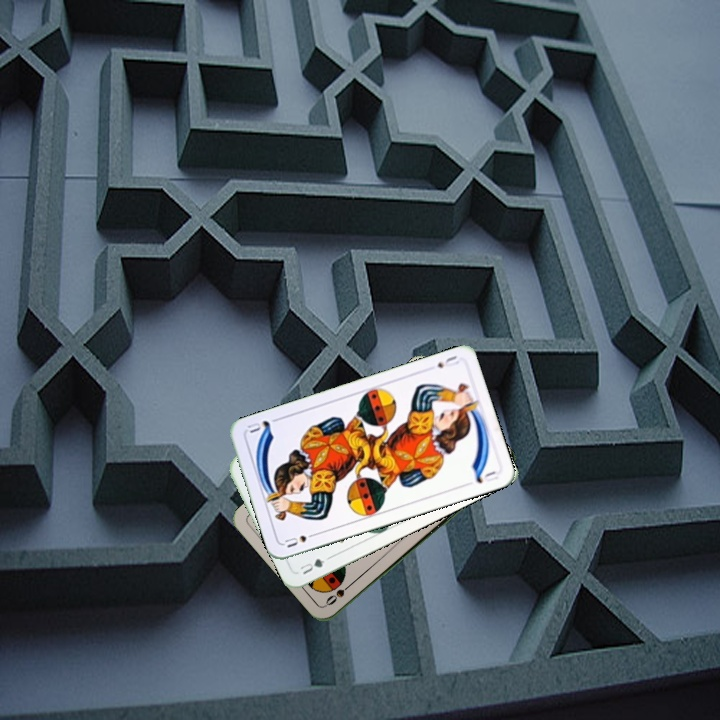GU: (295, 554, 327, 577)
SO: (321, 578, 356, 608)
SU: (281, 528, 320, 550), (433, 351, 461, 371)
